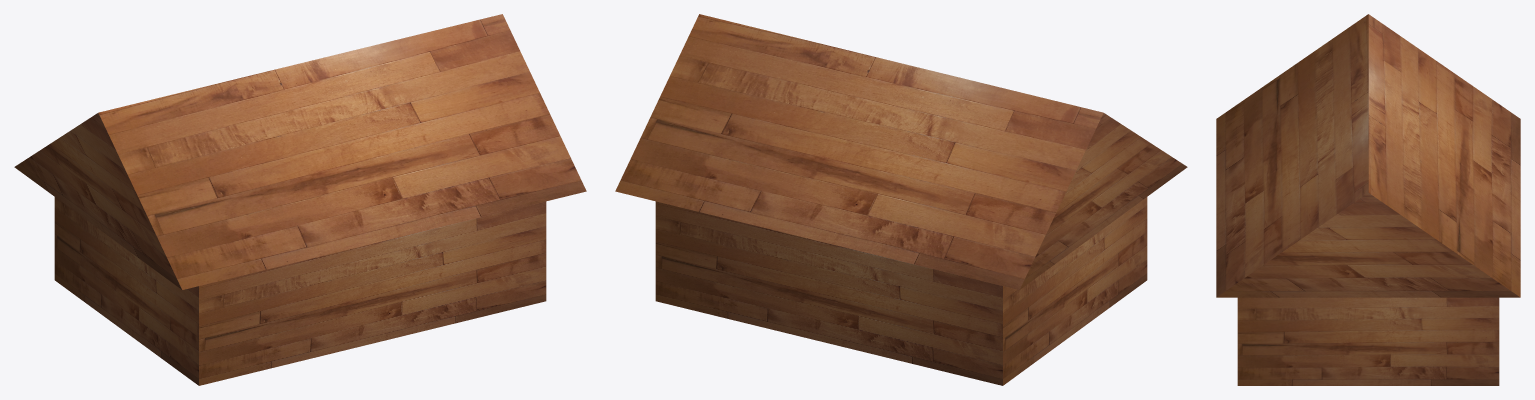
Rendered from house.fbx.
3 renders of one model, left to right at view 1: azimuth 30°, elevation 25°; view 2: azimuth 150°, elevation 25°; view 3: azimuth 270°, elevation 25°, orthographic. The views are drawn at different scales.
Parts seen in each view (by area): view 1: Plane; view 2: Plane; view 3: Plane.
Boxes of the visible parts, <box> form: Plane: <box>14,14,586,385</box>; Plane: <box>615,14,1187,385</box>; Plane: <box>1216,14,1520,385</box>.
Bounding box in the file's own units: 906 × 487 × 653.
Materials: 1 (1 with a texture image).
